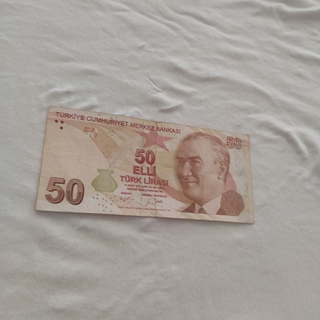50TLFront: (34, 105, 255, 224)
